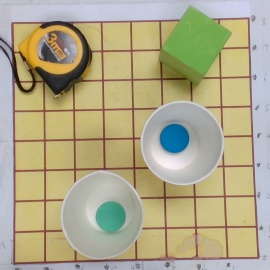cup_blue: (139, 100, 226, 186)
cup_green: (57, 170, 149, 259)
